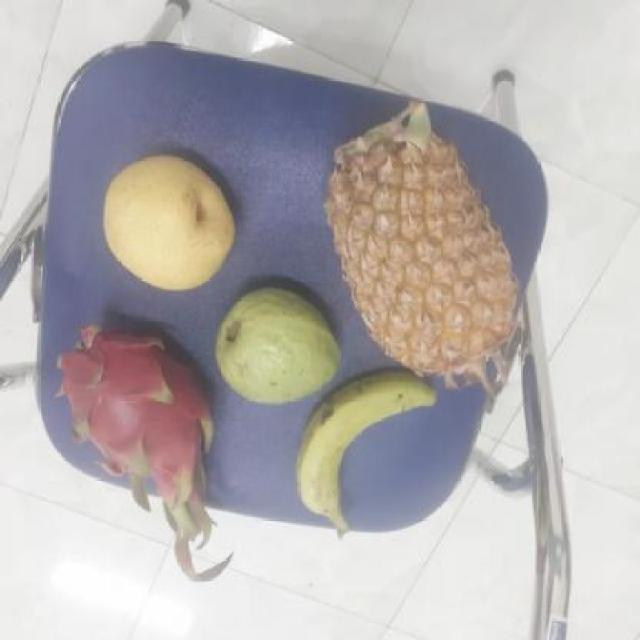banana: (293, 370, 438, 536)
dragon fruit: (60, 320, 218, 498)
guava: (218, 285, 344, 410)
pear: (103, 154, 240, 294)
pineapple: (330, 109, 530, 386)
